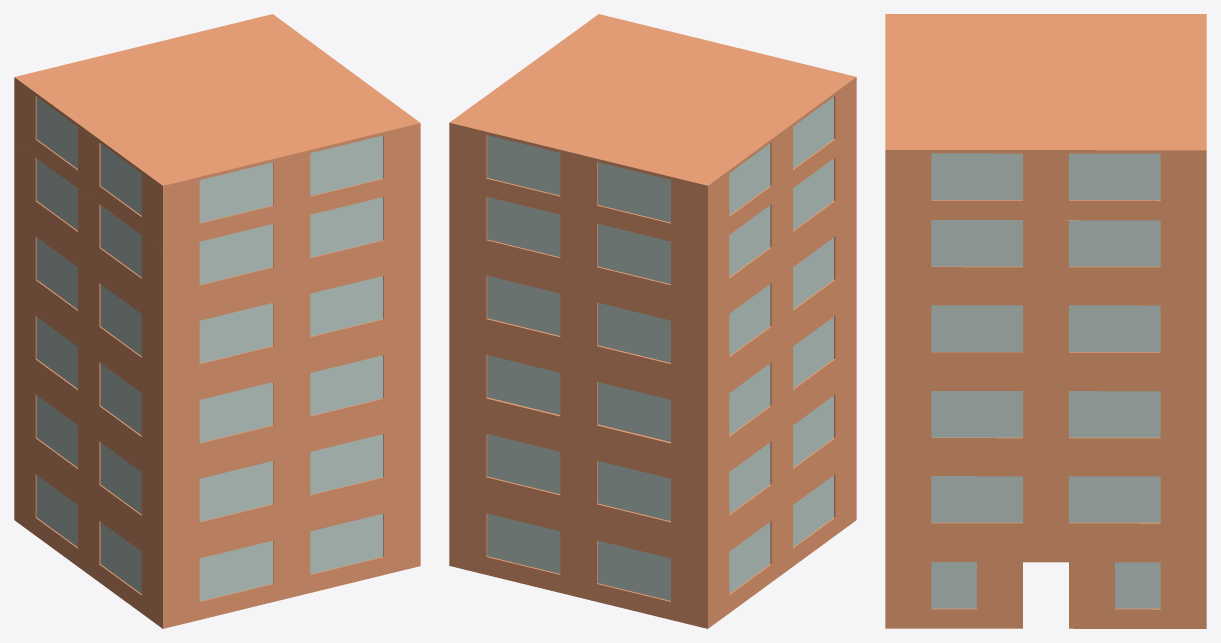
Rendered from apartment_text.fbx.
3 renders of one model, left to right at view 1: azimuth 30°, elevation 25°; view 2: azimuth 150°, elevation 25°; view 3: azimuth 270°, elevation 25°, orthographic. The views are drawn at different scales.
Visible parts, largest first — view 1: Apartment; view 2: Apartment; view 3: Apartment.
Boxes of the visible parts, box(x1,y1,x2,y2) form: Apartment: box(14, 14, 420, 628); Apartment: box(449, 14, 856, 628); Apartment: box(885, 14, 1206, 628).
Size of the model in its own units: 5295 by 8670 by 5275.
